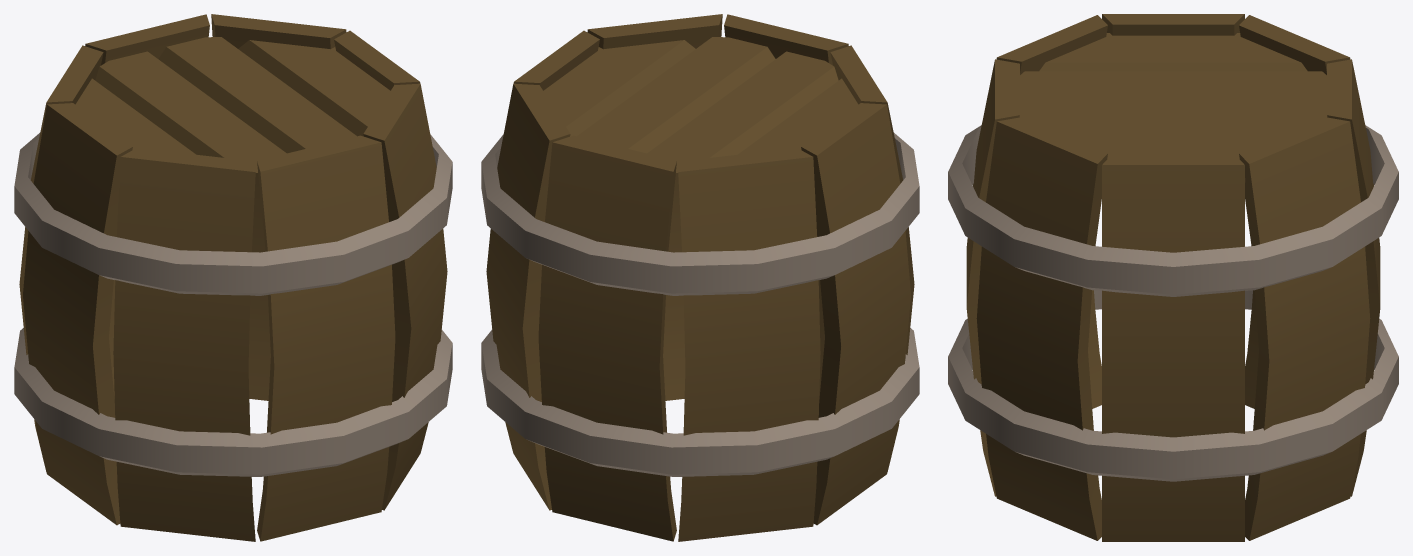
The model's file is prop_barrel.glb.
3 views of the same model, side by side, from view 1: azimuth 30°, elevation 25°; view 2: azimuth 150°, elevation 25°; view 3: azimuth 270°, elevation 25° (orthographic).
Parts seen in each view (by area): view 1: Prop_Barrel; view 2: Prop_Barrel; view 3: Prop_Barrel.
Boxes of the visible parts, x1,y1,x2,y2 form: Prop_Barrel: [14, 14, 452, 541]; Prop_Barrel: [481, 14, 919, 541]; Prop_Barrel: [948, 14, 1398, 541].
Bounding box in the file's own units: 0.7147 × 0.6599 × 0.7147.
Materials: 1 (1 with a texture image).
